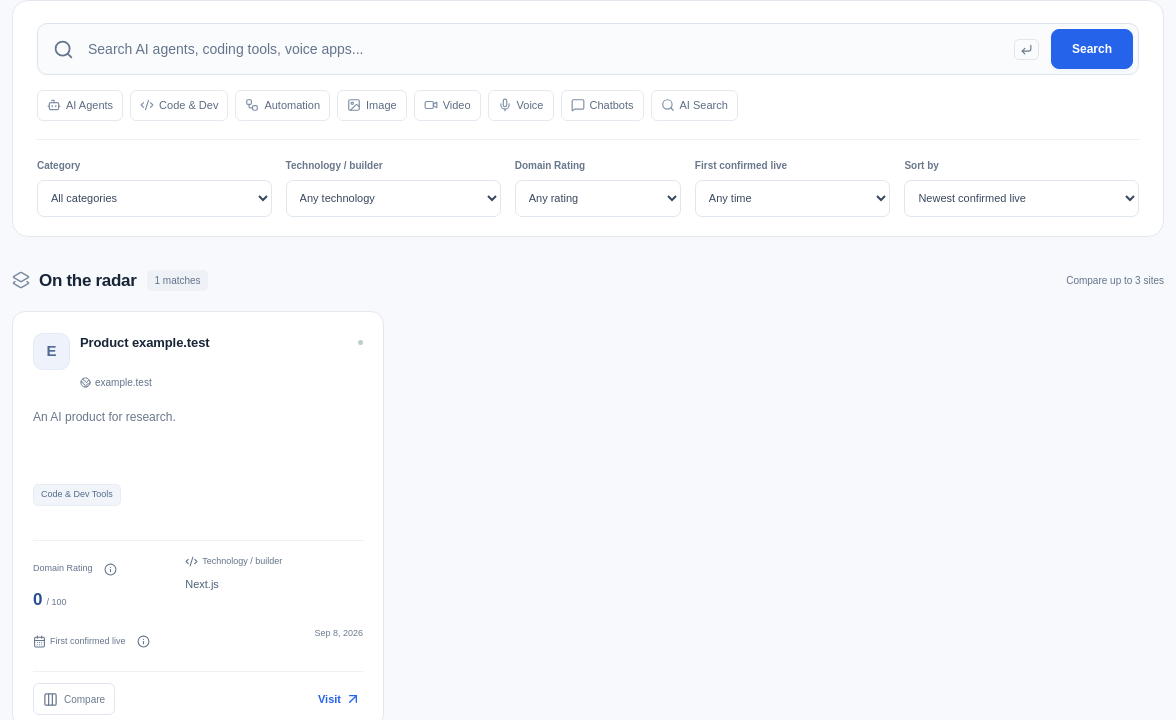
Test: discovery interactions › submits via Enter and never requests on individual keystrokes
Step 1. Type "voice" into the search field → (544, 49), box [74,29,1014,69]
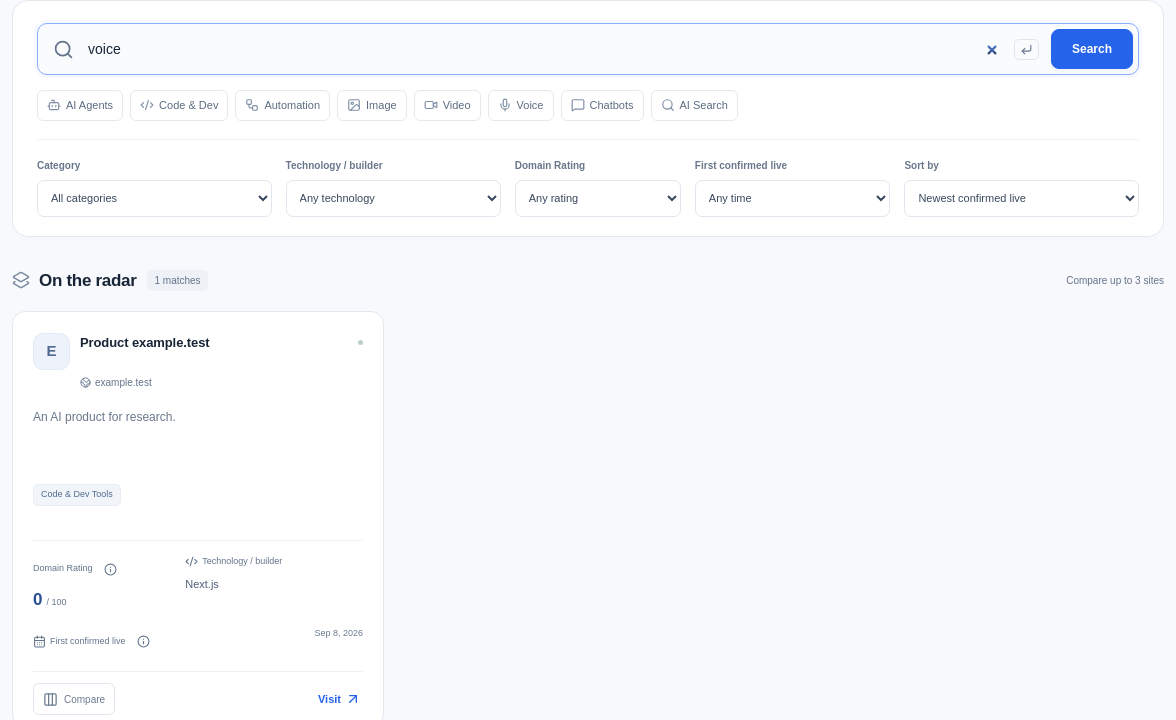
Step 2. Press Enter
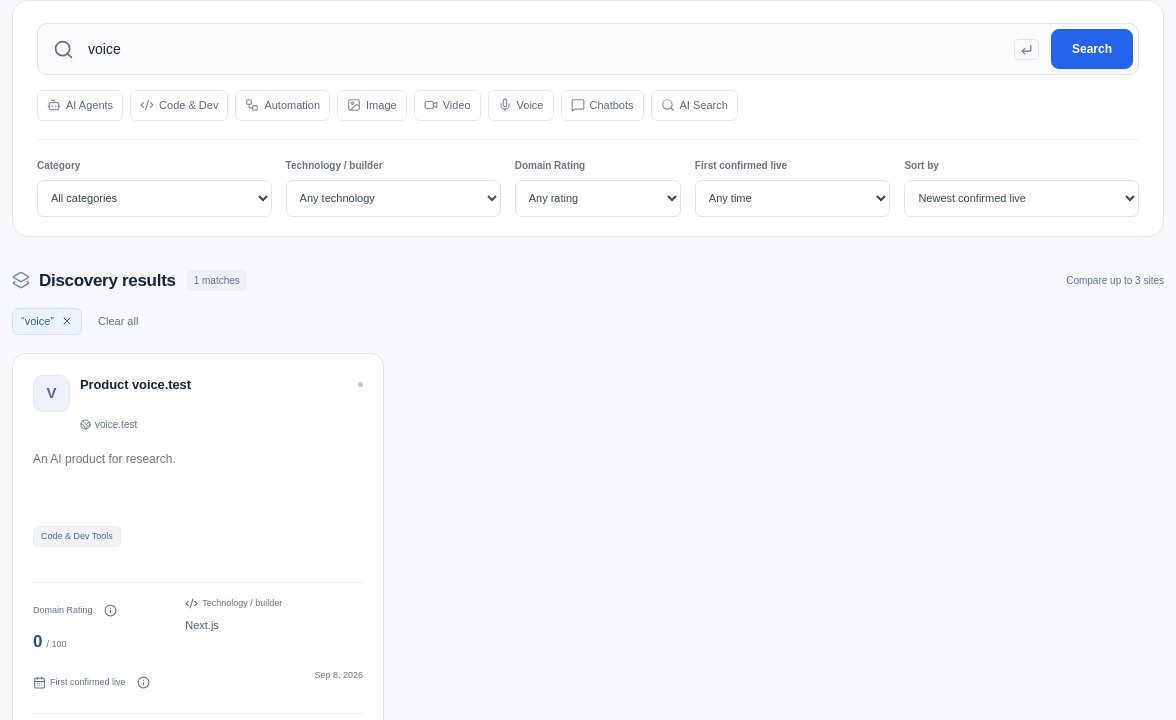
Now the heading "Product voice.test" is shown, box [80,376,191,392]
